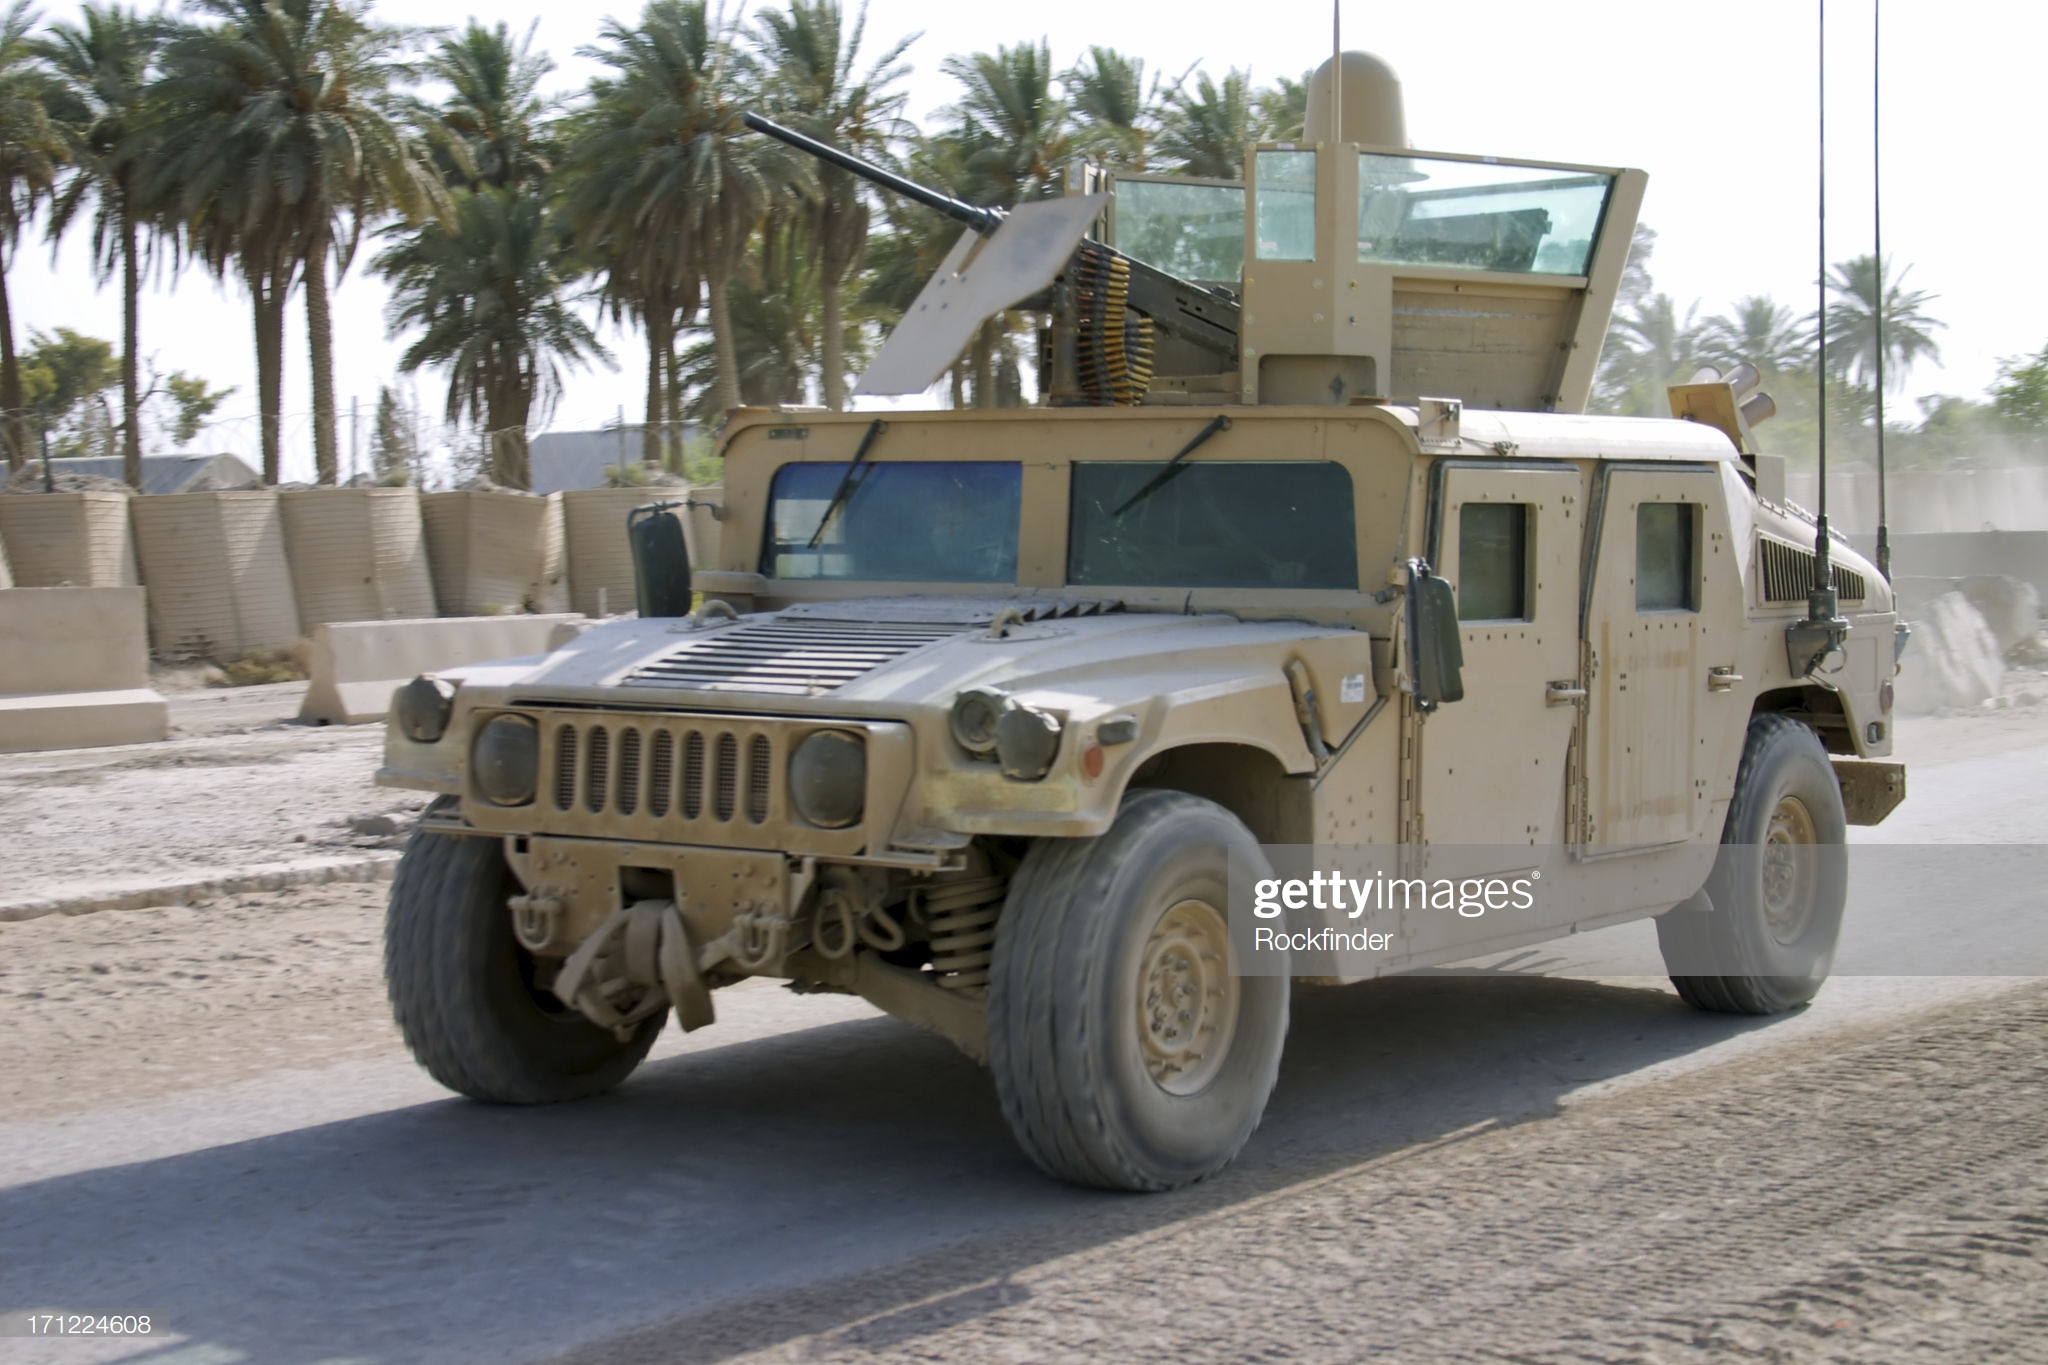hummer: (376, 407, 1847, 1076)
